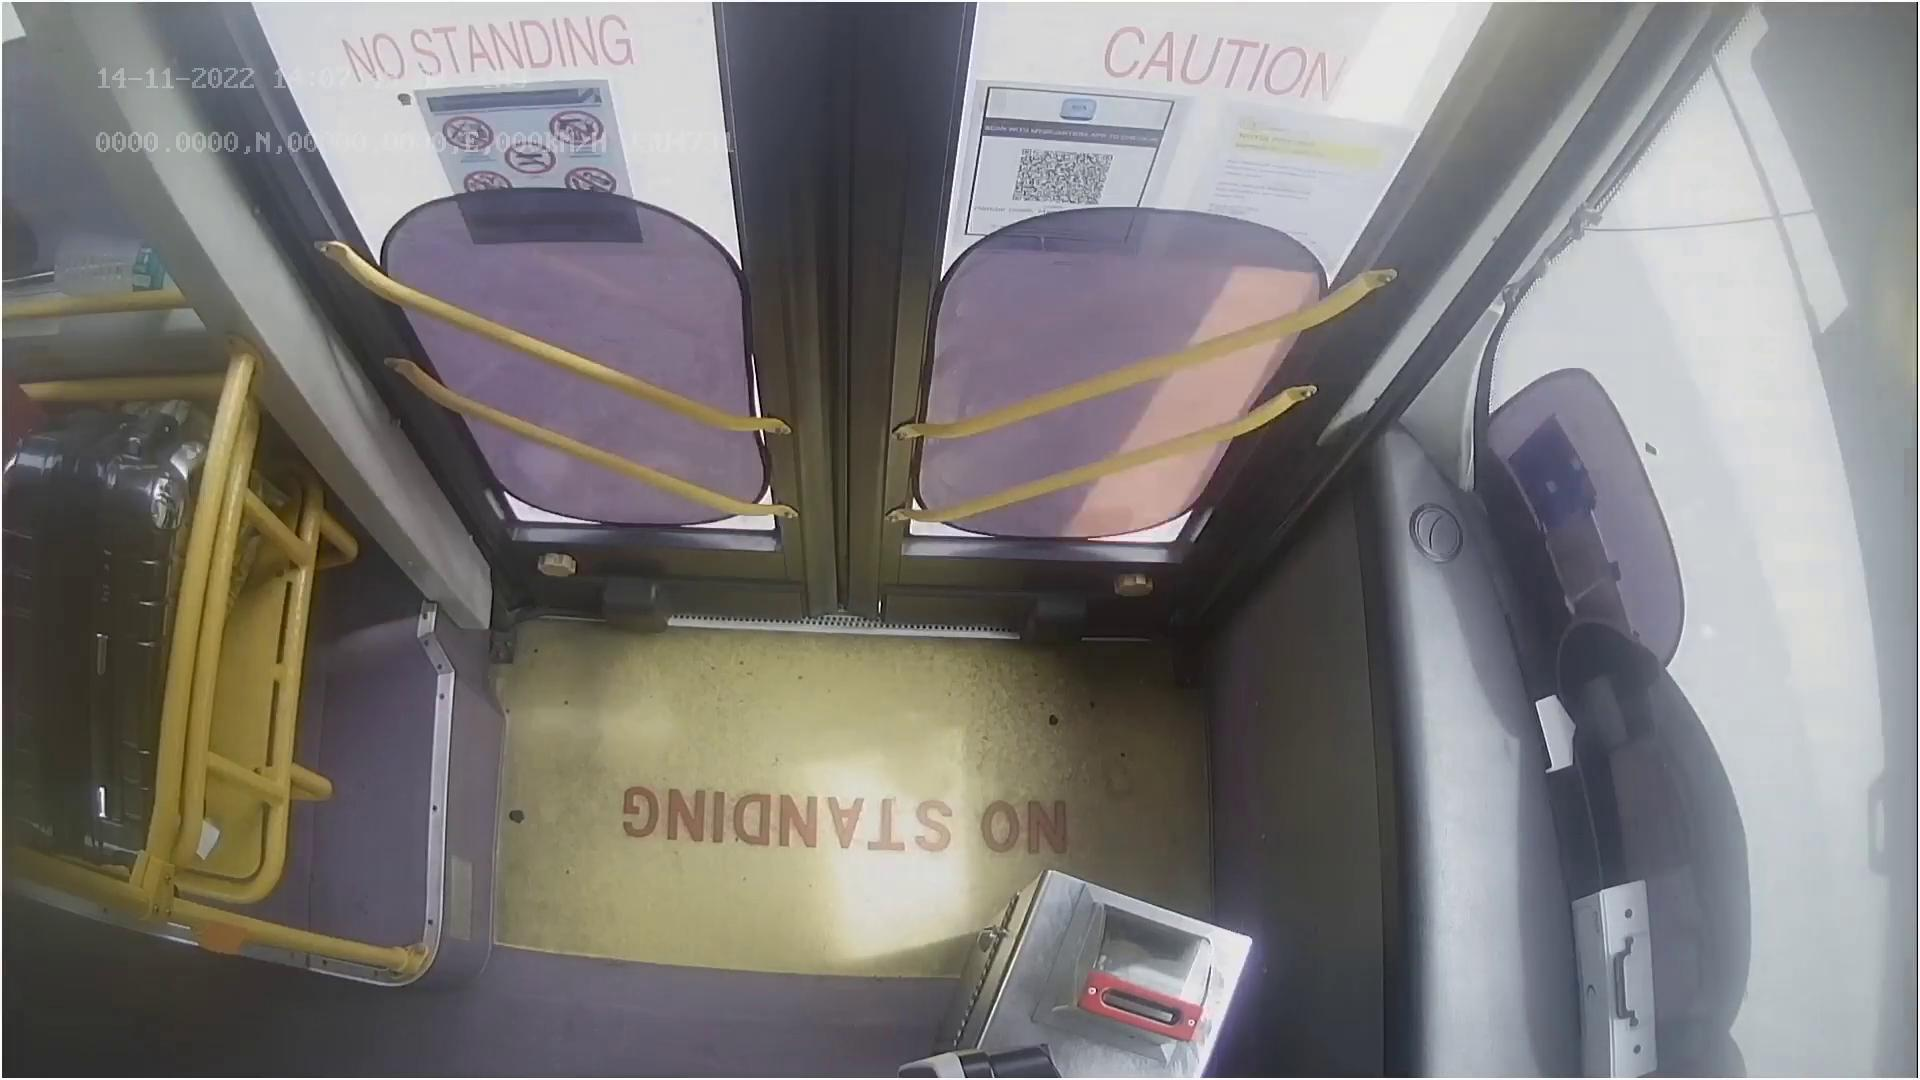close: (285, 0, 1439, 170)
